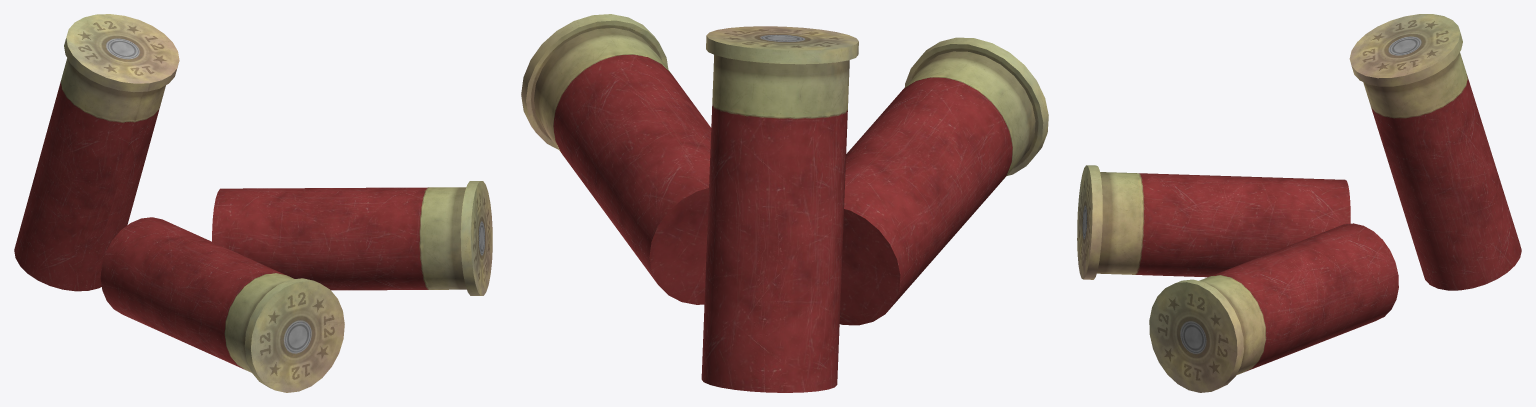
File: bullet_powerUp.dae
3 renders of one model, left to right at view 1: azimuth 30°, elevation 25°; view 2: azimuth 150°, elevation 25°; view 3: azimuth 270°, elevation 25°, orthographic. The views are drawn at different scales.
Visible parts, largest first — view 1: Shell.002, Shell, Shell.001; view 2: Shell.002, Shell.001, Shell; view 3: Shell.002, Shell, Shell.001.
Boxes of the visible parts, <box> form: Shell.002: <box>14,14,179,291</box>; Shell: <box>212,181,492,295</box>; Shell.001: <box>100,217,344,392</box>; Shell.002: <box>701,26,858,392</box>; Shell.001: <box>839,37,1048,325</box>; Shell: <box>521,14,711,304</box>; Shell.002: <box>1349,14,1521,290</box>; Shell: <box>1149,223,1398,392</box>; Shell.001: <box>1077,165,1350,279</box>.
Bounding box in the file's own units: 0.0726 × 0.0804 × 0.0508.
3 materials, 3 textured.
